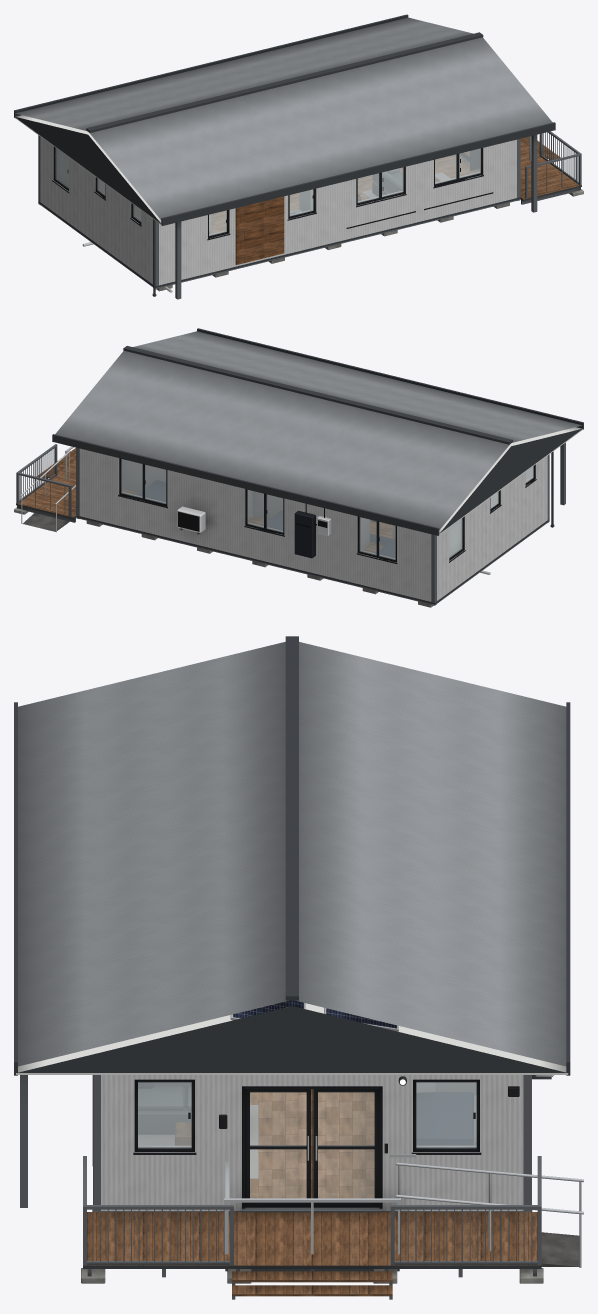
The model's file is Studio40_Production.glb.
3 views of the same model, one above another, from view 1: azimuth 30°, elevation 25°; view 2: azimuth 150°, elevation 25°; view 3: azimuth 270°, elevation 25° (orthographic). The views are drawn at different scales.
Parts seen in each view (by area): view 1: RoofSlopingUpgrade, ExteriorPanelsStandard, WindowsStandard, WindowsLargeUpgrade, TerraceDeck, ExteriorPanelsPremium, BaseFrame, FloorSPCUpgrade, TopFrame, FurnitureStaging, FoundationBlocks; view 2: RoofSlopingUpgrade, ExteriorPanelsStandard, WindowsStandard, WindowsLargeUpgrade, TerraceDeck, BaseFrame, SolarPrep, MasterBedroomWalls, TopFrame, BedroomWalls, AccessibilityVillage, FurnitureStaging (+3 smaller); view 3: RoofSlopingUpgrade, TerraceDeck, ExteriorPanelsStandard, EntryDoor, FloorSPCUpgrade, WindowsStandard, WindowsLargeUpgrade, FurnitureStaging, AccessibilityVillage, TopFrame, AccessibilityRetirement, LivingZoneExtended (+1 smaller).
Part boxes in pixels (left/top/right/bottom): RoofSlopingUpgrade: left=14, top=14, right=555, bottom=299; ExteriorPanelsStandard: left=40, top=136, right=516, bottom=285; WindowsStandard: left=52, top=145, right=492, bottom=240; WindowsLargeUpgrade: left=53, top=147, right=493, bottom=237; TerraceDeck: left=465, top=131, right=583, bottom=204; ExteriorPanelsPremium: left=235, top=196, right=284, bottom=264; BaseFrame: left=38, top=197, right=520, bottom=288; FloorSPCUpgrade: left=211, top=155, right=479, bottom=233; TopFrame: left=38, top=135, right=520, bottom=285; FurnitureStaging: left=372, top=169, right=439, bottom=195; FoundationBlocks: left=156, top=202, right=509, bottom=291; RoofSlopingUpgrade: left=52, top=328, right=583, bottom=535; ExteriorPanelsStandard: left=79, top=448, right=547, bottom=601; WindowsStandard: left=118, top=458, right=536, bottom=563; WindowsLargeUpgrade: left=119, top=459, right=535, bottom=561; TerraceDeck: left=14, top=444, right=76, bottom=522; BaseFrame: left=76, top=515, right=549, bottom=605; SolarPrep: left=294, top=503, right=331, bottom=558; MasterBedroomWalls: left=122, top=459, right=252, bottom=518; TopFrame: left=76, top=447, right=549, bottom=602; BedroomWalls: left=253, top=491, right=395, bottom=550; AccessibilityVillage: left=20, top=446, right=73, bottom=531; FurnitureStaging: left=137, top=480, right=395, bottom=557; RoofSlopingUpgrade: left=14, top=636, right=570, bottom=1207; TerraceDeck: left=81, top=1156, right=543, bottom=1299; ExteriorPanelsStandard: left=93, top=1075, right=530, bottom=1211; EntryDoor: left=242, top=1086, right=382, bottom=1212; FloorSPCUpgrade: left=250, top=1089, right=374, bottom=1198; WindowsStandard: left=92, top=1075, right=481, bottom=1154; WindowsLargeUpgrade: left=92, top=1079, right=479, bottom=1165; FurnitureStaging: left=138, top=1082, right=476, bottom=1145; AccessibilityVillage: left=224, top=1161, right=583, bottom=1271; TopFrame: left=93, top=1075, right=531, bottom=1210; AccessibilityRetirement: left=389, top=1154, right=583, bottom=1211; LivingZoneExtended: left=138, top=1105, right=258, bottom=1178.
Size of the model in its own units: 14.75 by 4.03 by 8.5.
Materials: 47 (22 with a texture image).
